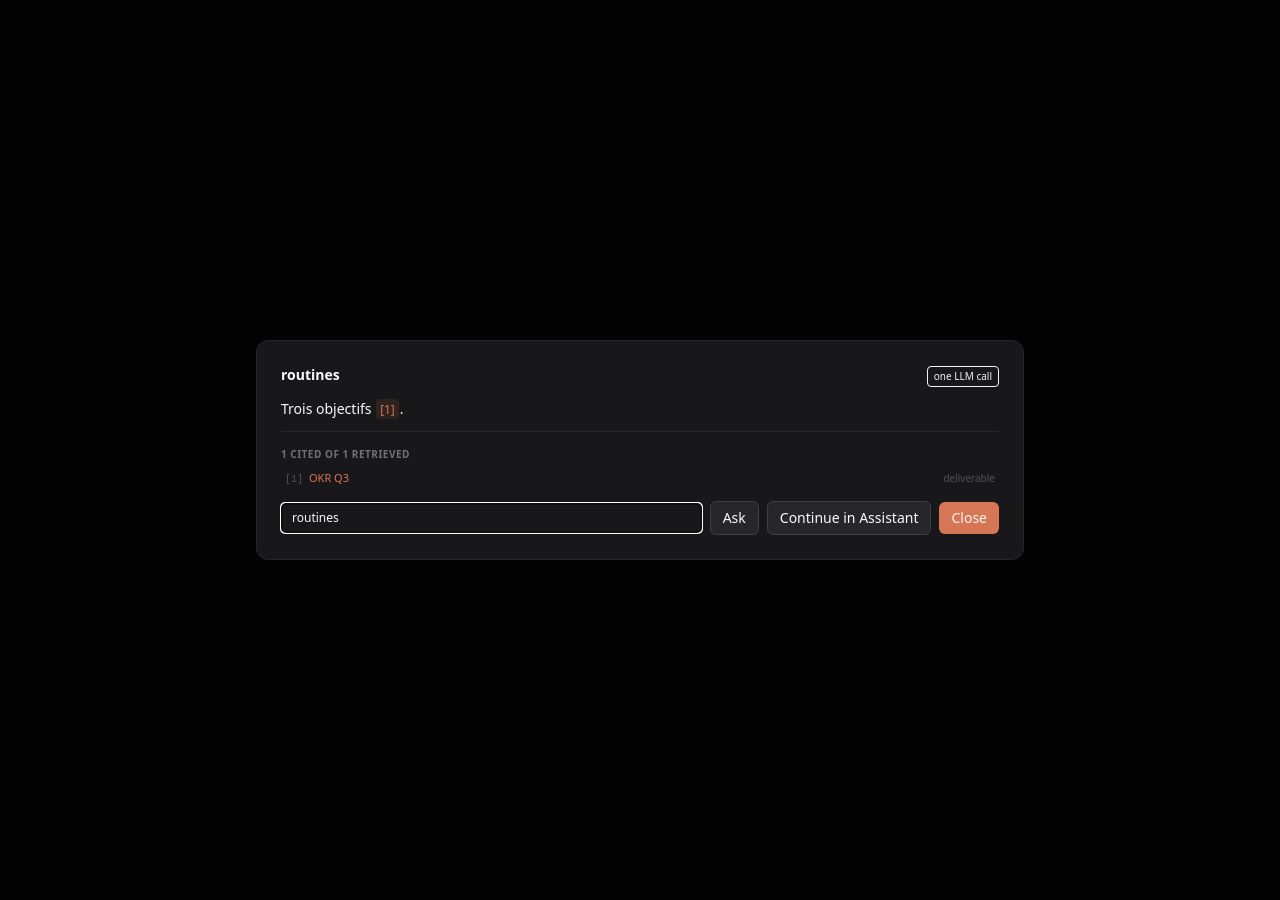
Test: AskMemoryModal — recorded history › keeps a follow-up in this panel, and in the same conversation
The image size is (1280, 900).
expect the text "Trois objectifs [1] ." is shown: met, box [281,399,404,419]
Replace the text in the field with placeholder "Ask something else…" with "et le KR2.1 ?": (491, 518) [281,503,702,533]
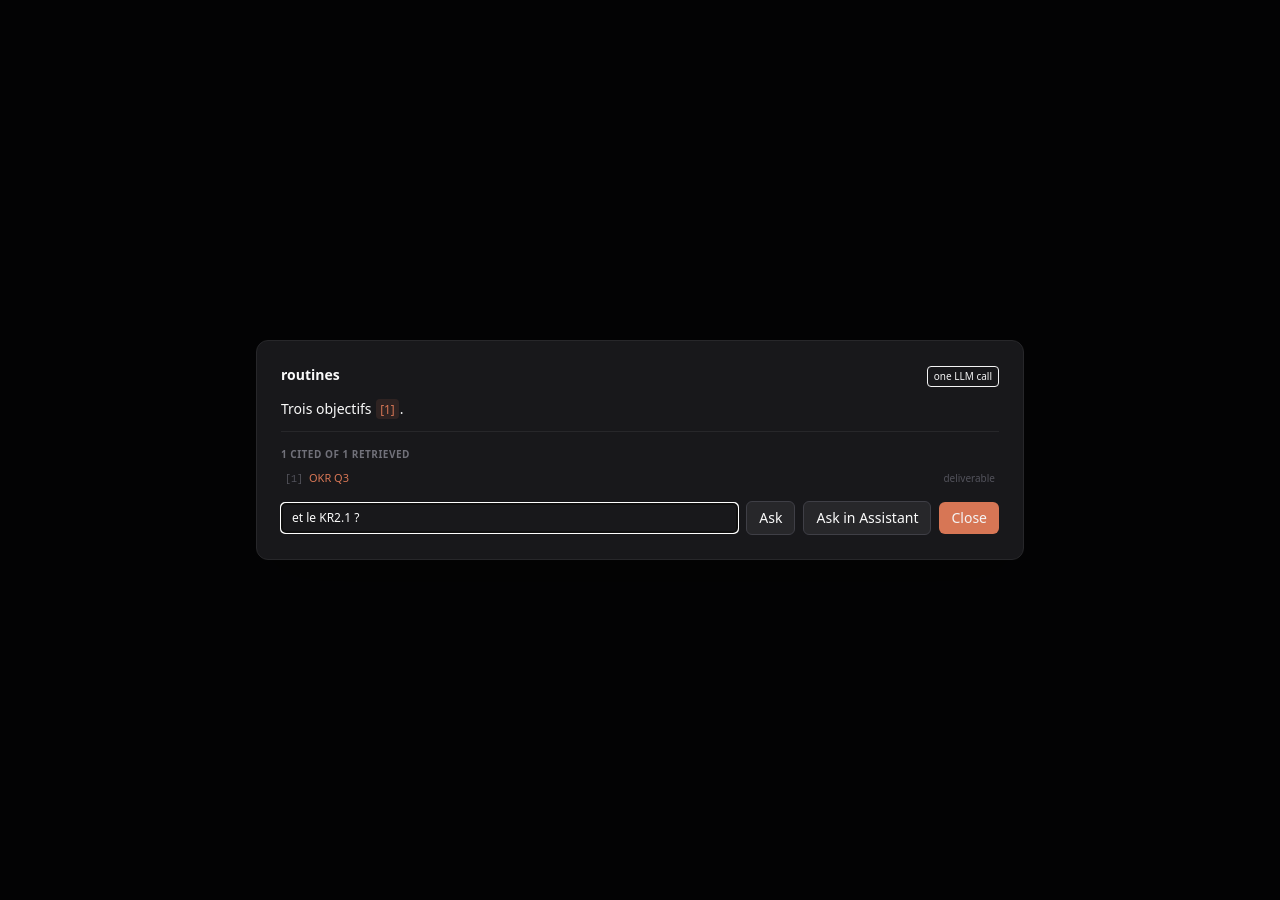
Press Enter in the field with placeholder "Ask something else…", box [281,503,738,533]
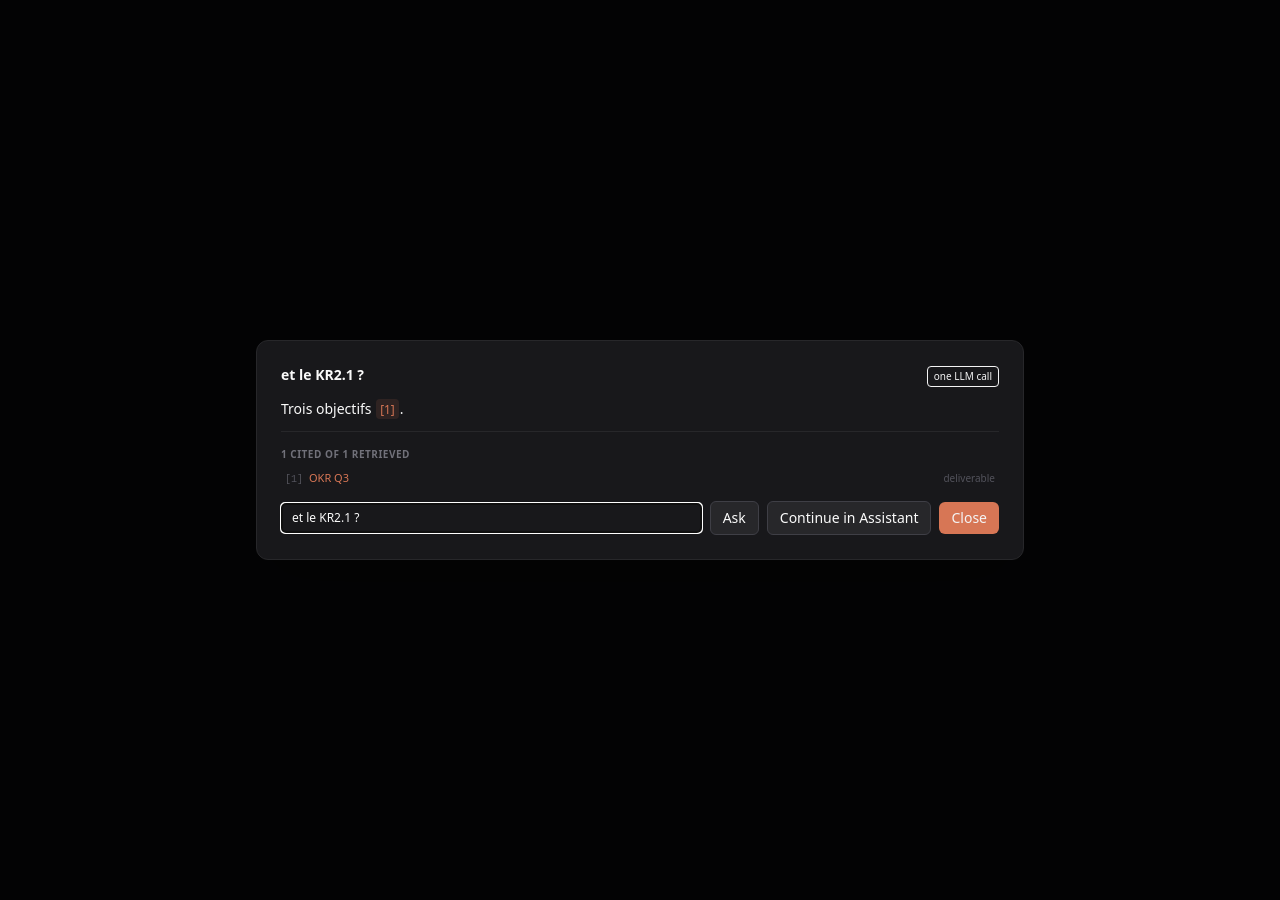
expect the heading "et le KR2.1 ?" is shown: met, box [281,365,364,384]
